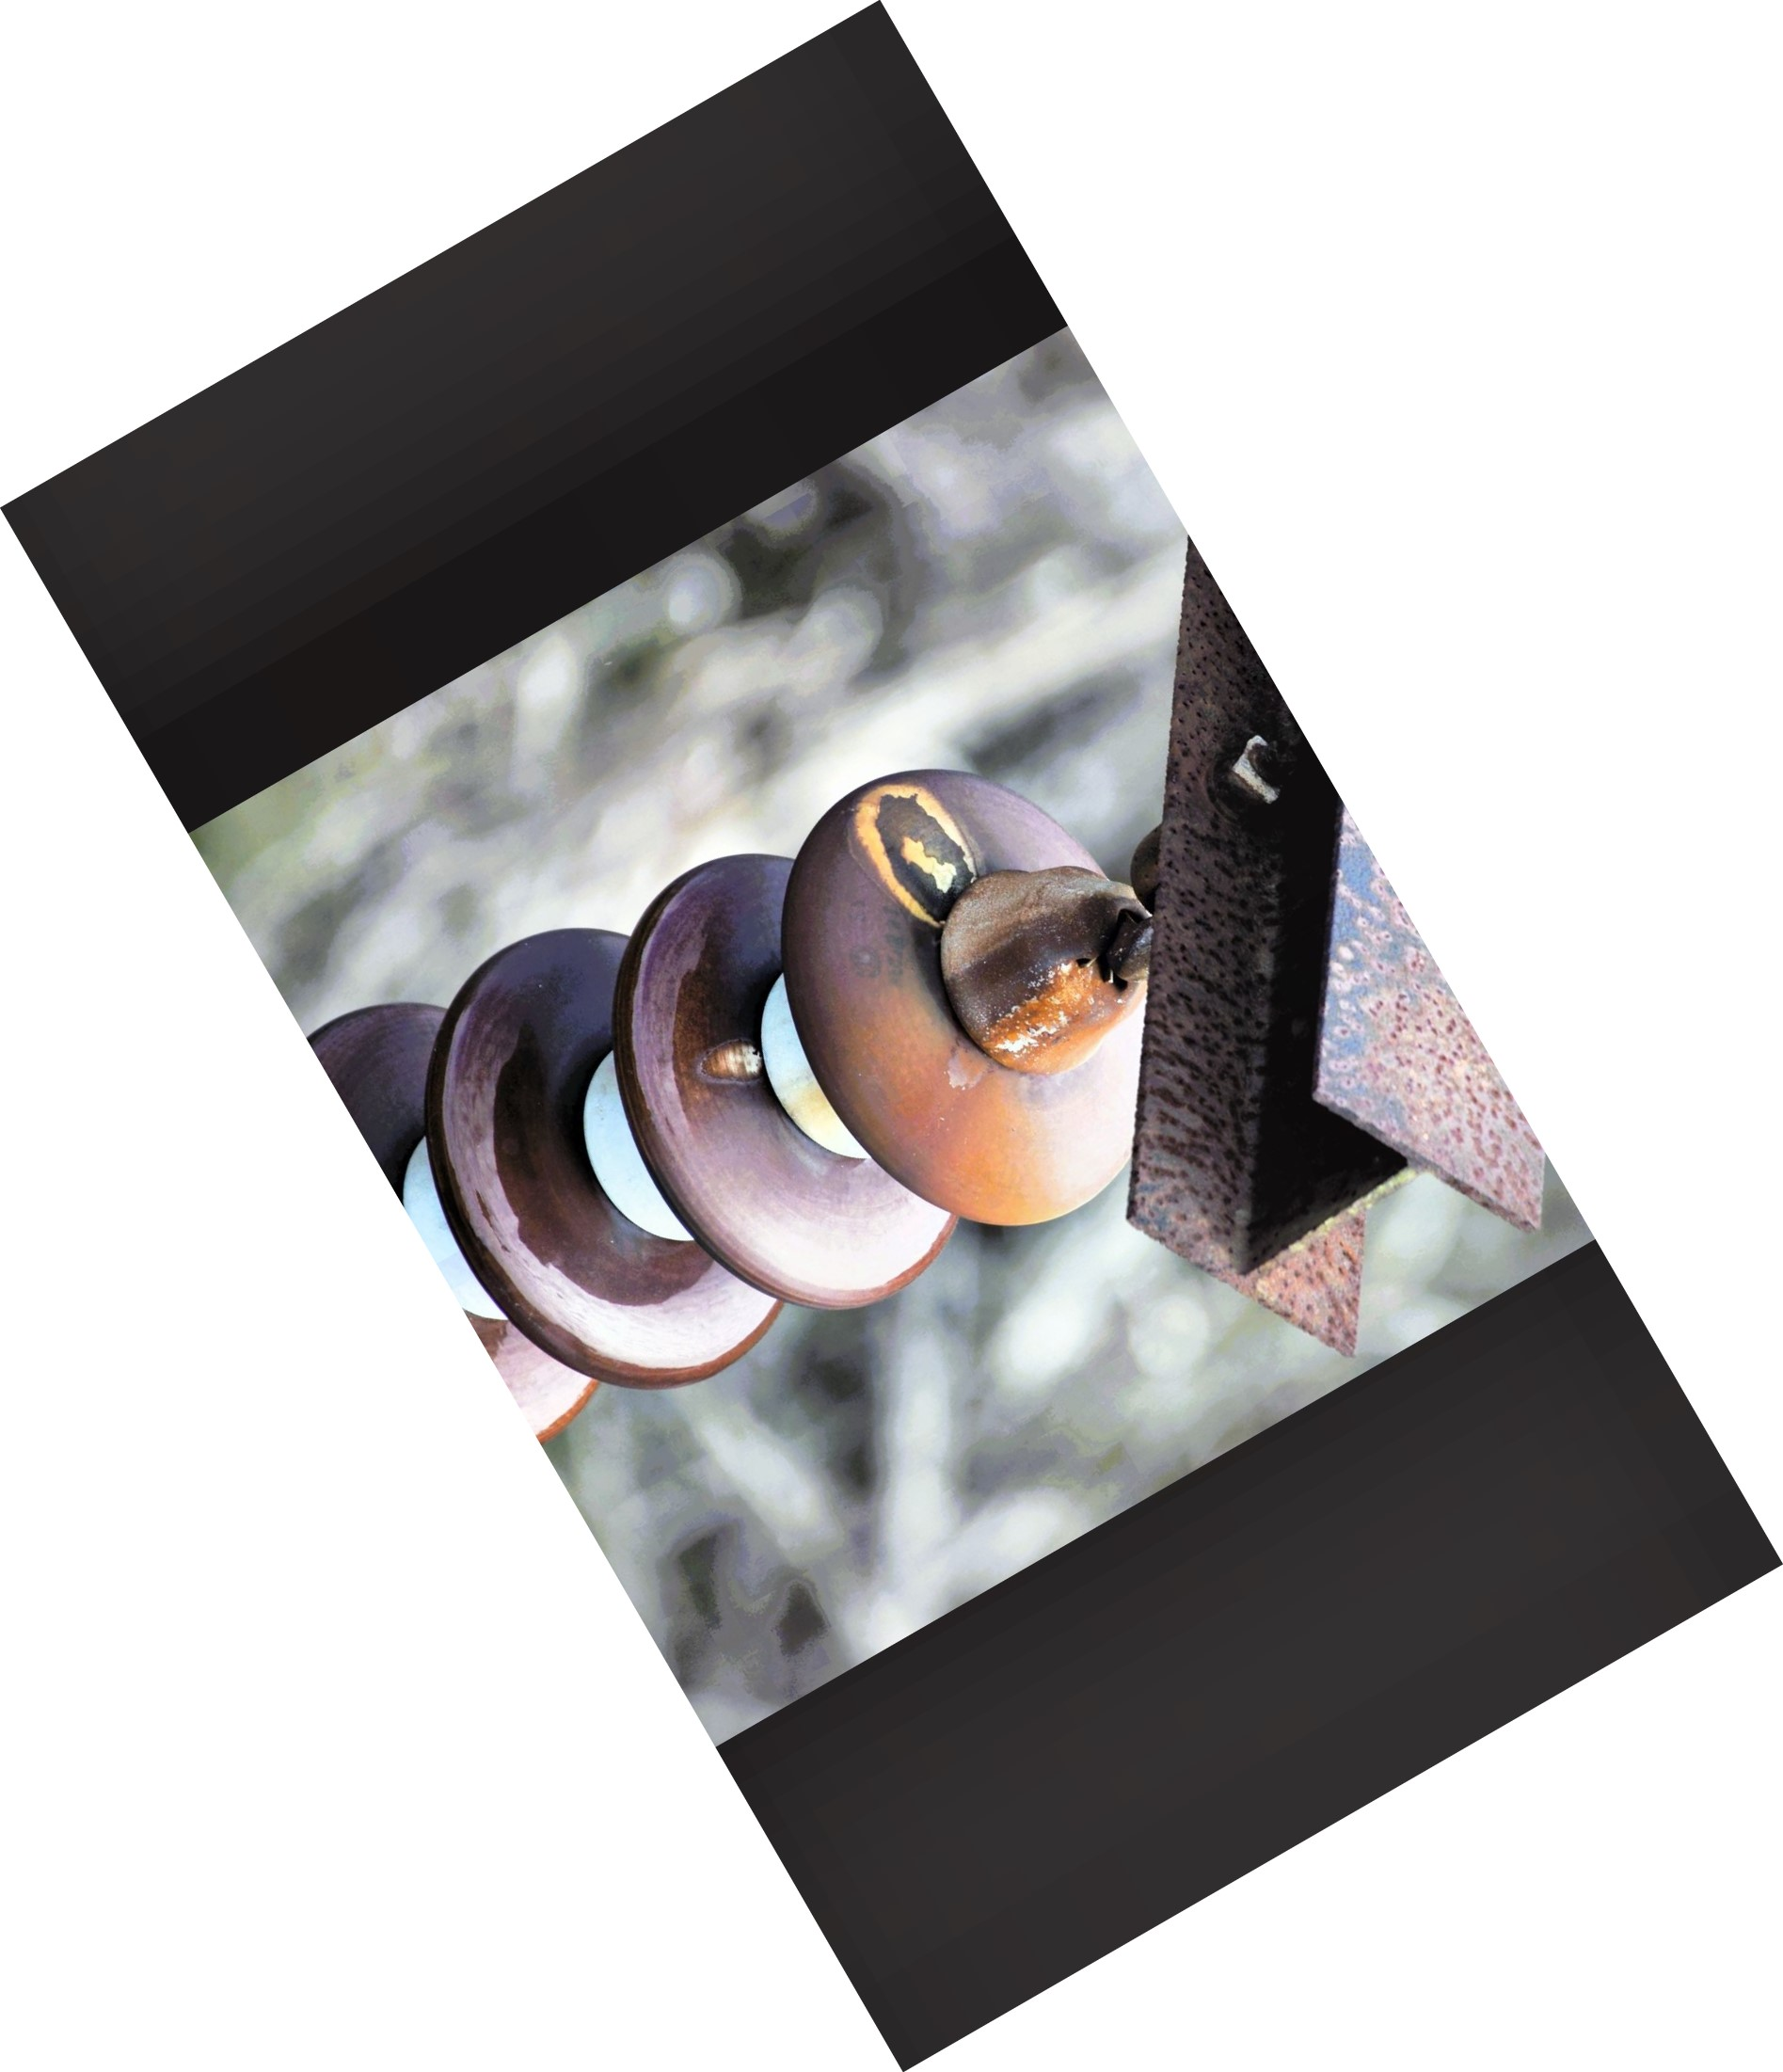Insulator flashover: (772, 717, 1173, 1254)
